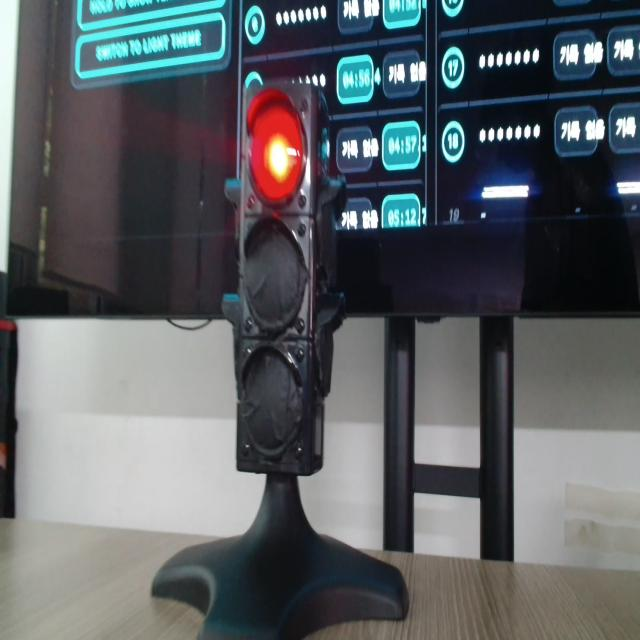red_light: (248, 90, 305, 204)
